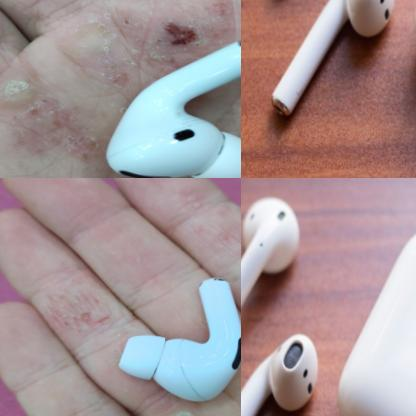Airpods: (98, 39, 241, 178), (264, 0, 405, 135), (120, 266, 241, 407), (241, 196, 301, 359), (241, 326, 328, 416)
